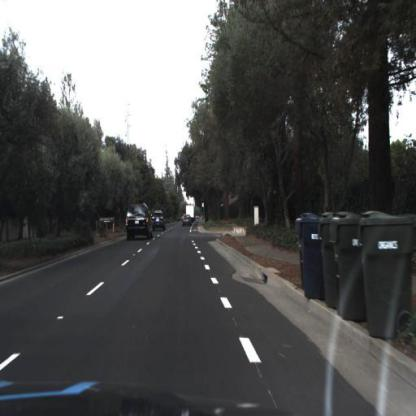car: (125, 202, 153, 244), (150, 209, 168, 233), (185, 202, 196, 219), (182, 214, 192, 228)
truck: (186, 201, 199, 227)
